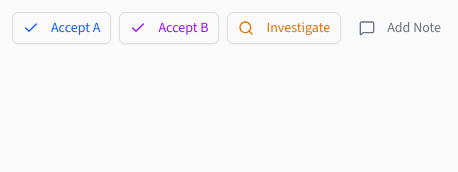
it: ContradictionActions › Accept A Action (AC4) › shows loading state during Accept A action
The width and height of the screenshot is (458, 172).
Click the button
Click the button with aria-label "accept finding a".
click(62, 28)  # box [12,12,111,44]
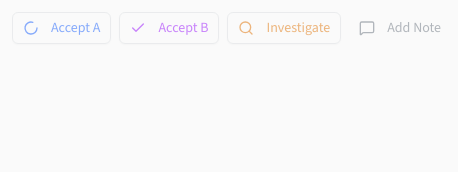
Expected: the button with aria-label "accept finding a" is disabled, [12,12,111,44]
